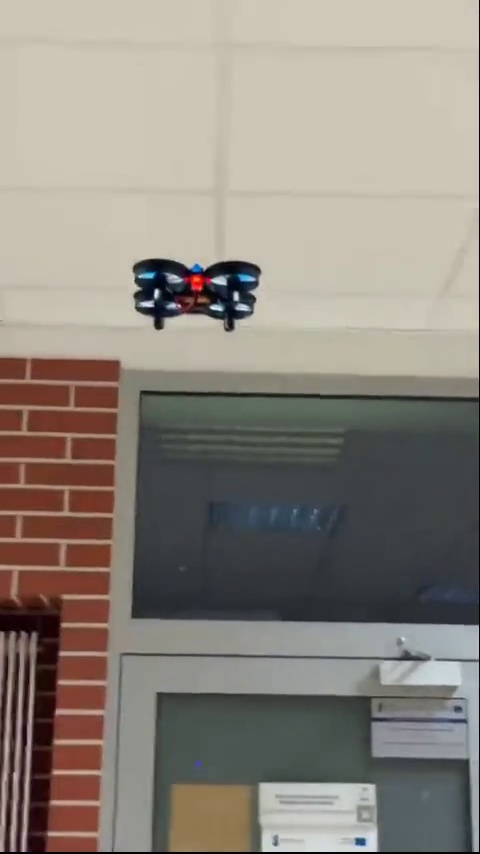drone: (125, 257, 265, 334)
